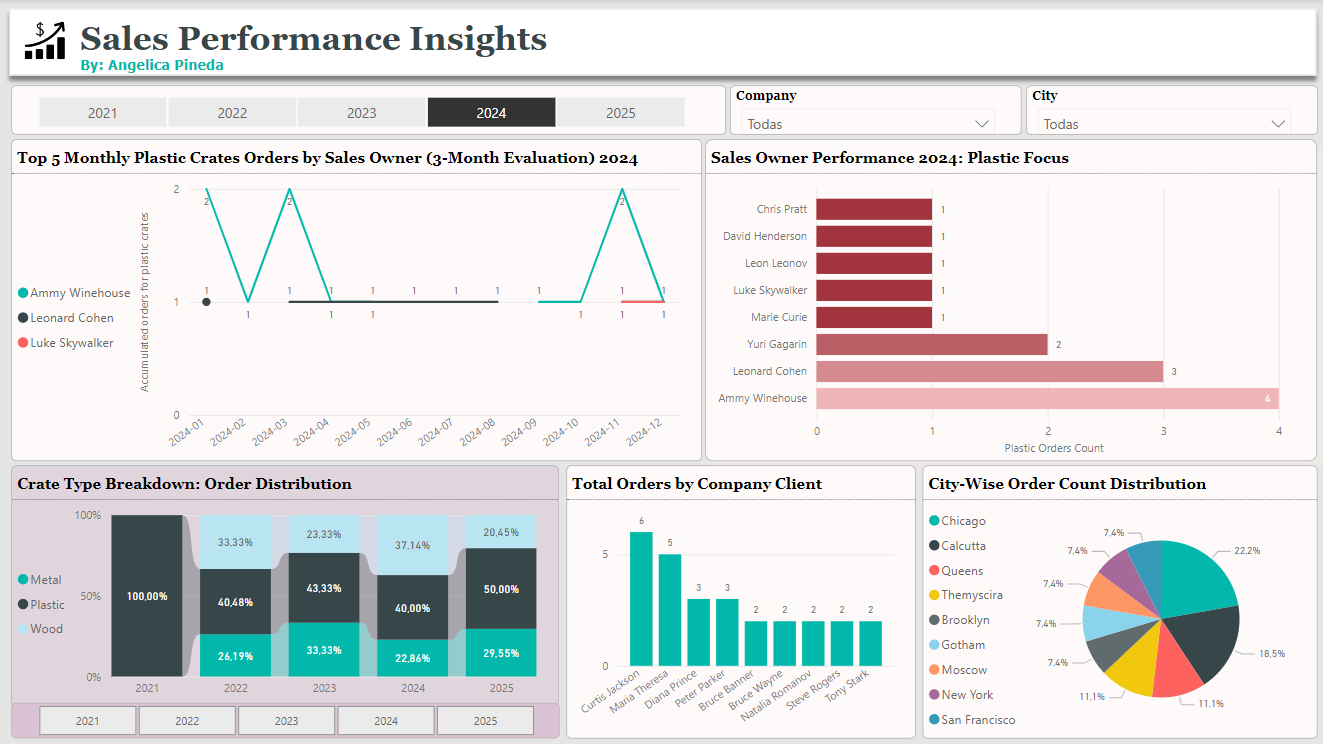

The dashboard page shown, as its layout file describes it:
{"tool":"powerbi","page":{"name":"Página 1","canvas":[1280,720],"ordinal":0},"visuals":[{"type":"shape","box":[0,0,1280.3,82.8],"z":0},{"type":"hundredPercentStackedColumnChart","title":"Crate Type Breakdown: Order Distribution","fields":{"Series":["orders.crate_type"],"Category":["Date_dim.Year"],"Y":["orders.OrdersCount"]},"box":[10.7,449.9,528.7,233.6],"z":1000},{"type":"textbox","box":[72.1,14.7,507.3,53.4],"z":2000},{"type":"clusteredBarChart","fields":{"Category":["orders.salesowners"],"Y":["orders.PlasticOrdersCount"]},"box":[680.9,134.8,591.4,311.1],"z":3000},{"type":"slicer","title":"Date","fields":{"Values":["Date_dim.Year"]},"box":[10.7,82.8,690.2,48.1],"z":4000},{"type":"lineChart","fields":{"Y":["orders.plasticOrders3monthsPeriod"],"Category":["Date_dim.MonthYear"],"Series":["orders.salesowners"]},"box":[10.7,134.8,667.5,311.1],"z":5000},{"type":"slicer","title":"Company","fields":{"Values":["orders.company_name"]},"box":[704.9,82.8,281.7,48.1],"z":6000},{"type":"slicer","title":"City","fields":{"Values":["orders.city"]},"box":[990.6,82.8,281.7,48.1],"z":7000},{"type":"slicer","fields":{"Values":["Date_dim.Year"]},"box":[10.7,679.5,530,34.7],"z":8000},{"type":"image","box":[14.7,10.7,57.4,57.4],"z":9000},{"type":"textbox","box":[72.1,48.1,365.8,40.1],"z":10000},{"type":"clusteredColumnChart","title":"Total Orders by Company Client","fields":{"Category":["orders.Contact Full Name"],"Y":["orders.OrdersCount"]},"box":[547.4,449.9,337.8,264.3],"z":11000},{"type":"pieChart","title":"City-Wise Order Count Distribution","fields":{"Category":["orders.city"],"Y":["orders.OrdersCount"]},"box":[890.4,449.9,381.8,264.3],"z":12000}]}

Visuals, with their boxes in screenshot pixels (x1, y1, x2, y2), scaled from the page's 1280x720 canvas onto the 1323x744 screenshot:
shape: {"x1": 0, "y1": 0, "x2": 1322, "y2": 86}
"Crate Type Breakdown: Order Distribution" hundredPercentStackedColumnChart: {"x1": 11, "y1": 465, "x2": 558, "y2": 706}
textbox: {"x1": 75, "y1": 15, "x2": 599, "y2": 70}
clusteredBarChart - orders.salesowners x orders.PlasticOrdersCount: {"x1": 704, "y1": 139, "x2": 1315, "y2": 461}
"Date" slicer: {"x1": 11, "y1": 86, "x2": 724, "y2": 135}
lineChart - orders.plasticOrders3monthsPeriod x Date_dim.MonthYear: {"x1": 11, "y1": 139, "x2": 701, "y2": 461}
"Company" slicer: {"x1": 729, "y1": 86, "x2": 1020, "y2": 135}
"City" slicer: {"x1": 1024, "y1": 86, "x2": 1315, "y2": 135}
slicer - Date_dim.Year: {"x1": 11, "y1": 702, "x2": 559, "y2": 738}
image: {"x1": 15, "y1": 11, "x2": 75, "y2": 70}
textbox: {"x1": 75, "y1": 50, "x2": 453, "y2": 91}
"Total Orders by Company Client" clusteredColumnChart: {"x1": 566, "y1": 465, "x2": 915, "y2": 738}
"City-Wise Order Count Distribution" pieChart: {"x1": 920, "y1": 465, "x2": 1315, "y2": 738}
